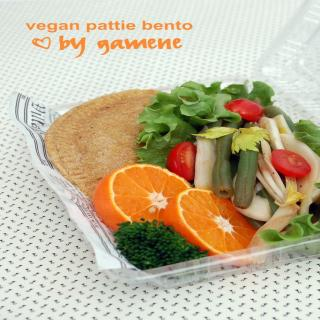Orange: (94, 165, 204, 231), (166, 190, 268, 254)
Salad: (59, 71, 318, 252)
